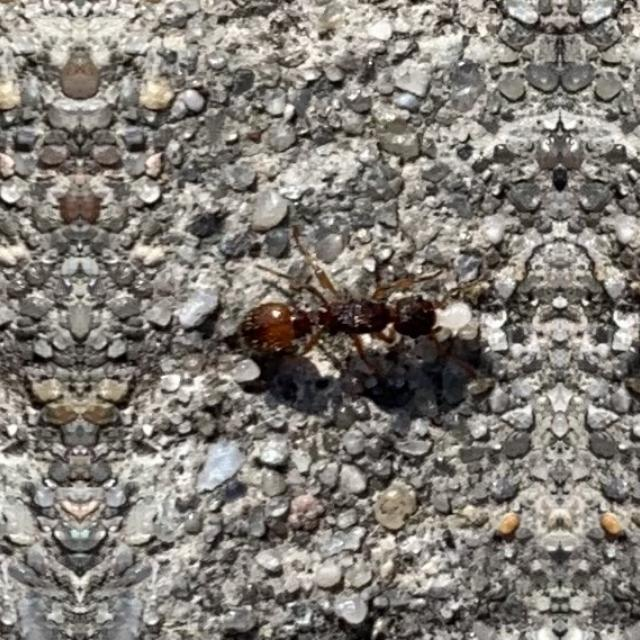Myrmica: (220, 234, 476, 392)
